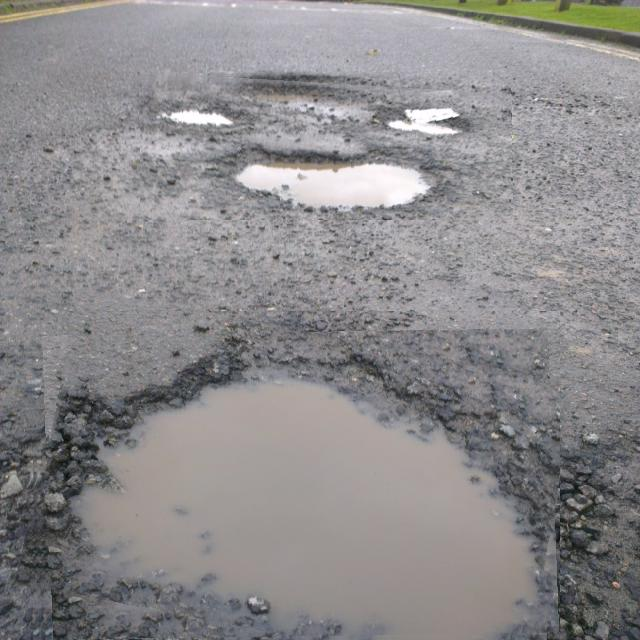Pothole: (27, 311, 560, 640), (140, 72, 512, 220)
